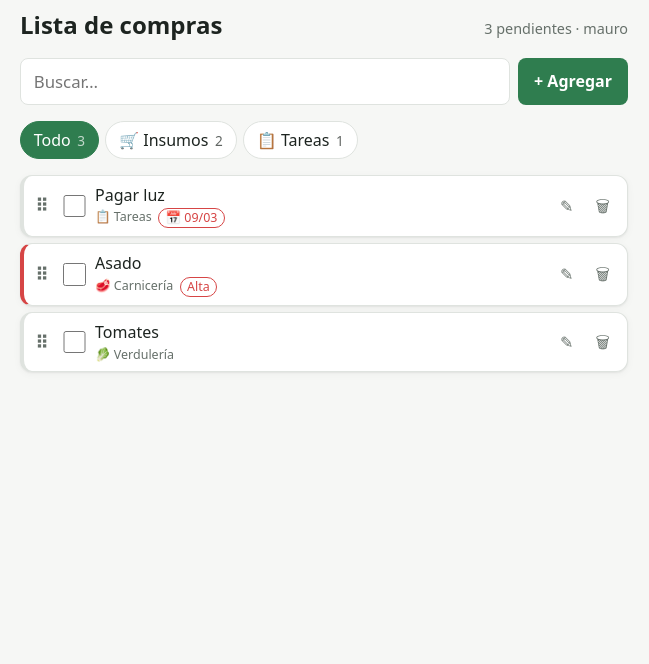
Test: App › agrega un ítem al principio con su subcategoría
Expected: the text "Asado" is shown, [95,252,141,274]
Click the button "+ Agregar": coordinates (573, 82) [518,58,628,106]
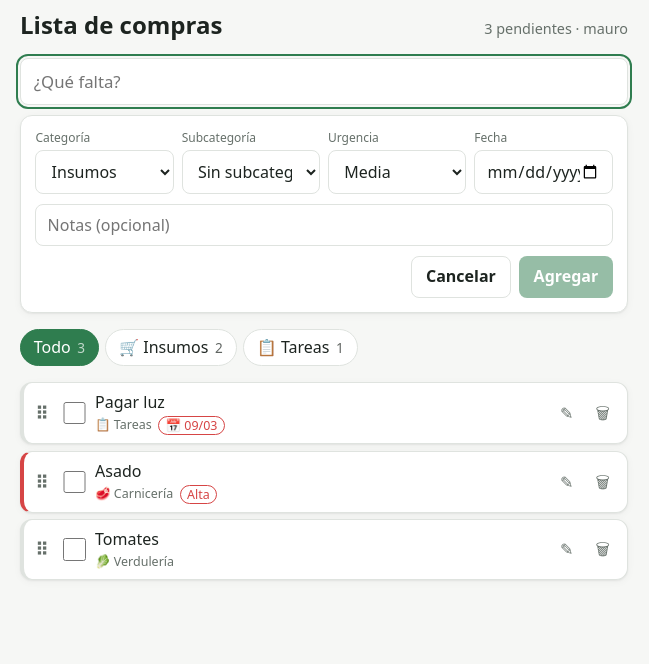
In the search field named "Nombre del ítem nuevo": coordinates (324, 82) [20,58,628,106], type "Lavandina"
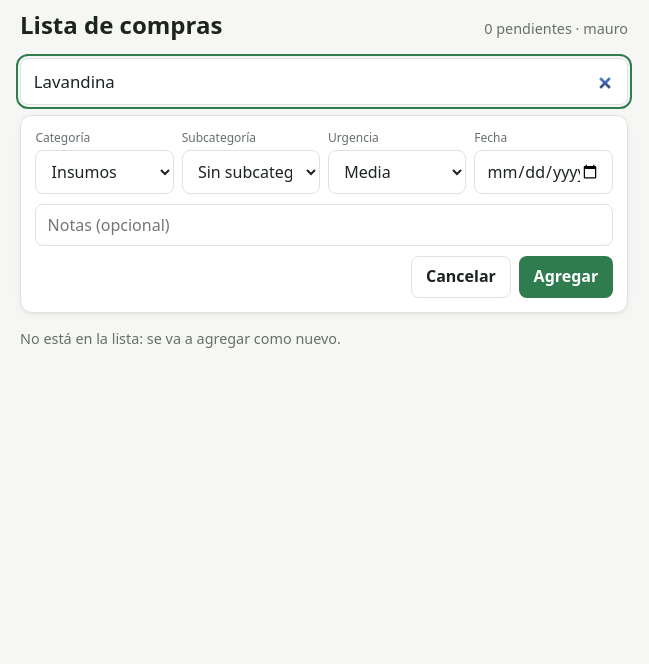
Select "Limpieza" in the dropdown labelled "Subcategoría": coordinates (251, 172) [182,150,320,194]
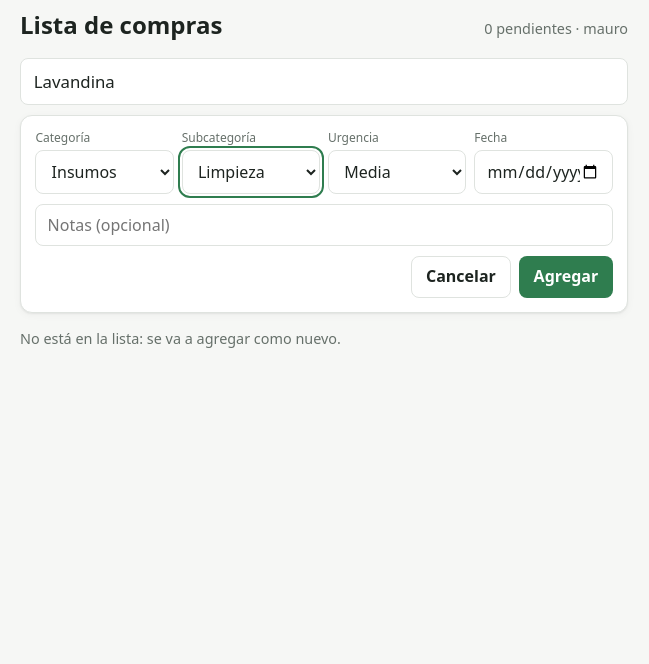
Click the button "Agregar": coordinates (566, 277) [519,256,613,298]
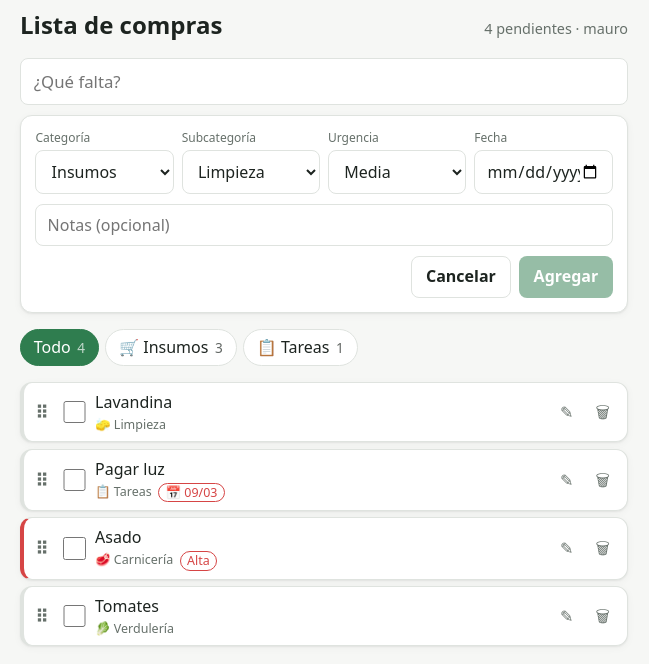
Now the text with class "item-name" reads "Lavandina", box [95,391,172,413]
